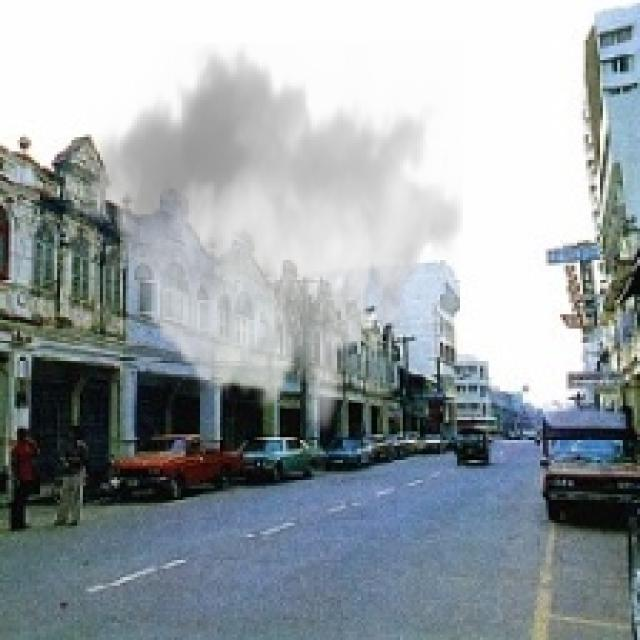smoke: (86, 43, 463, 437)
